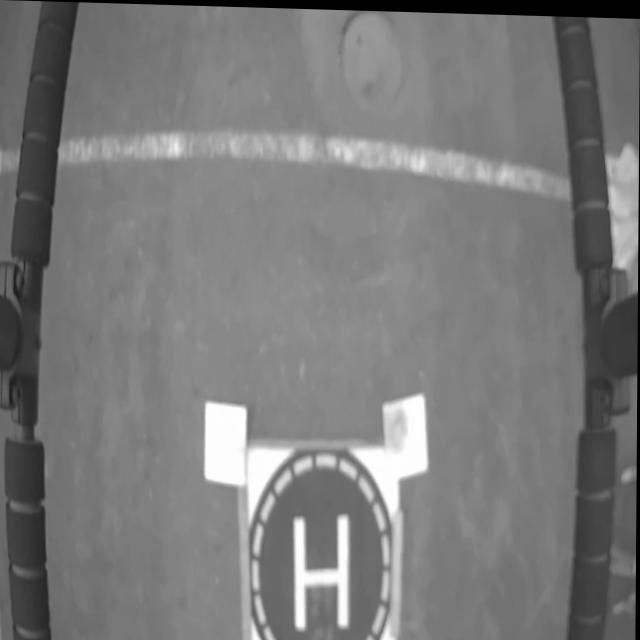Helipad: (295, 510, 352, 630)
